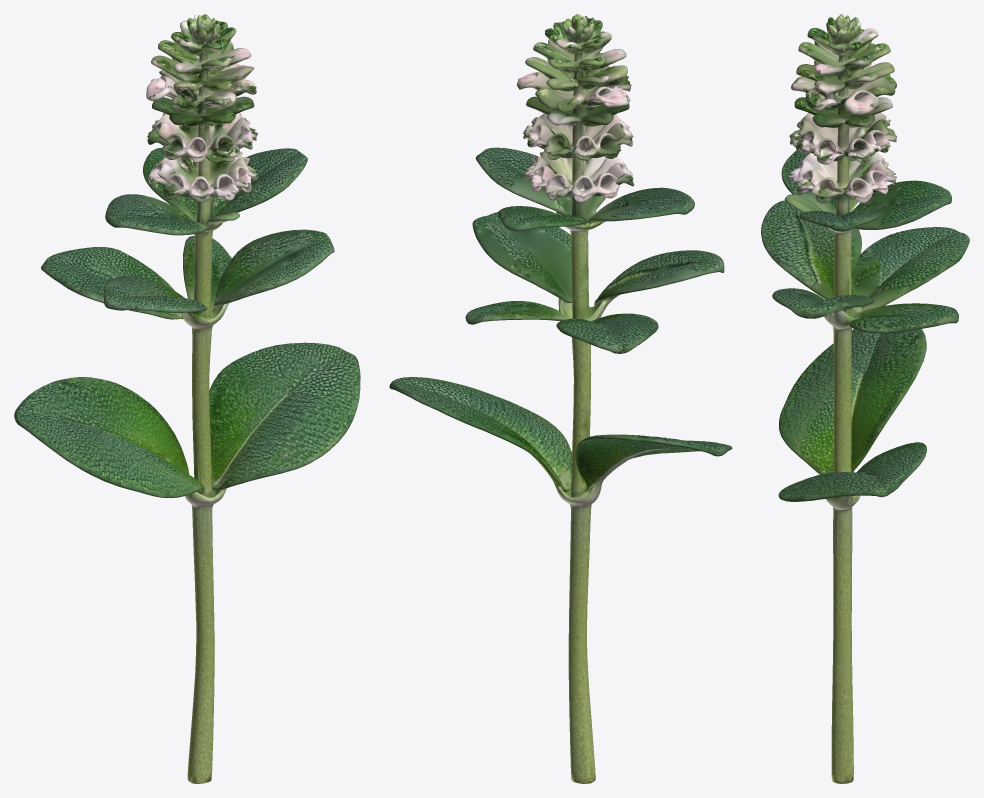
File: niuzhi.glb
The picture shows the model from 3 angles, left to right: view 1: azimuth 30°, elevation 25°; view 2: azimuth 150°, elevation 25°; view 3: azimuth 270°, elevation 25°; orthographic projection.
Visible parts, largest first — view 1: node_0; view 2: node_0; view 3: node_0.
Part boxes in pixels (x1,y1,x2,y2): node_0: (14, 14, 360, 783); node_0: (389, 14, 732, 783); node_0: (761, 14, 969, 783).
Size of the model in its own units: 0.549 by 1.19 by 0.2951.
1 material, 1 textured.
